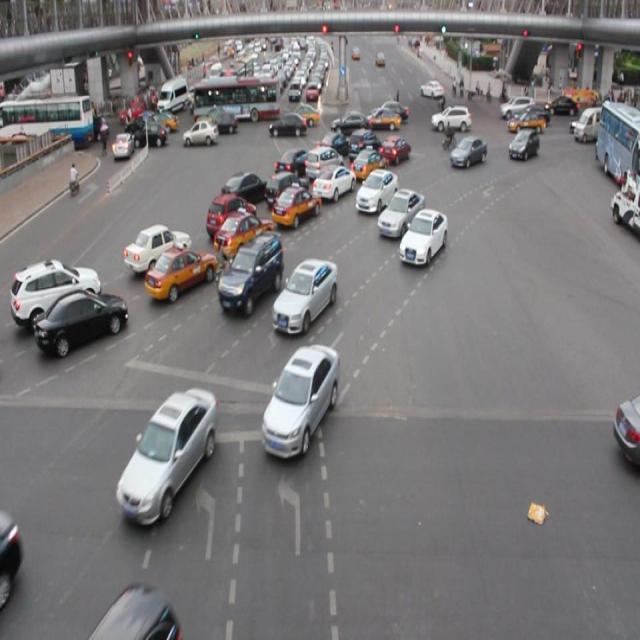car: (119, 387, 217, 521), (261, 342, 337, 457), (34, 286, 126, 354), (11, 260, 101, 324), (218, 230, 282, 314), (90, 585, 185, 640), (273, 258, 337, 333), (144, 246, 215, 300), (124, 222, 192, 273), (212, 212, 273, 262), (397, 208, 447, 265), (376, 187, 424, 237), (206, 194, 256, 236), (355, 166, 397, 216), (271, 186, 320, 228), (614, 394, 640, 469), (311, 164, 355, 203), (264, 170, 309, 208), (222, 171, 264, 206), (349, 146, 388, 181), (273, 146, 312, 179), (449, 134, 484, 169), (507, 125, 538, 163), (347, 127, 380, 162), (377, 134, 411, 167), (317, 129, 349, 159)
truck: (305, 145, 342, 181)
